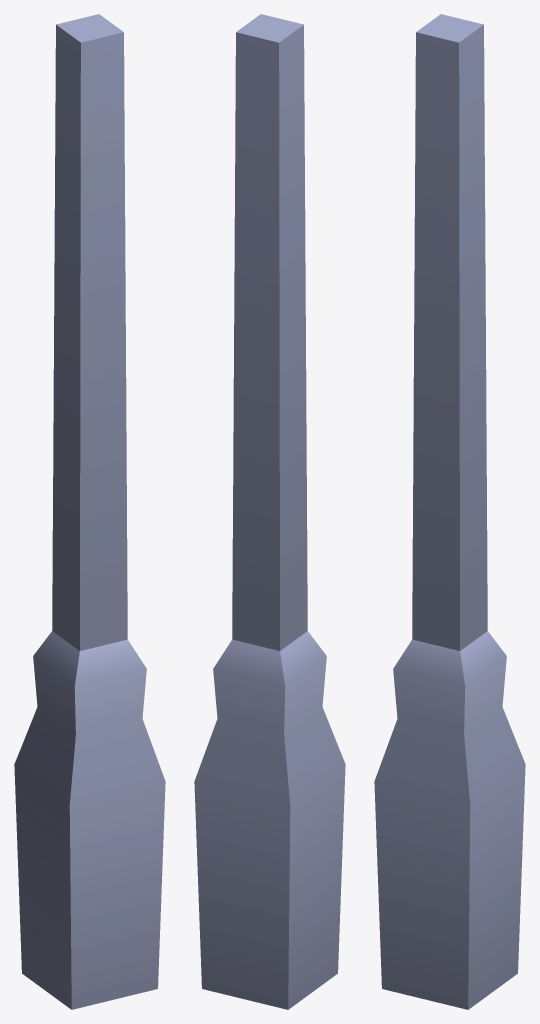
Rendered from road-sign-empty.glb.
3 views of the same model, side by side, from view 1: azimuth 30°, elevation 25°; view 2: azimuth 150°, elevation 25°; view 3: azimuth 330°, elevation 25° (orthographic).
Visible parts, largest first — view 1: road-sign-empty; view 2: road-sign-empty; view 3: road-sign-empty.
Part boxes in pixels (x1,y1,x2,y2): road-sign-empty: [14, 14, 165, 1009]; road-sign-empty: [194, 14, 345, 1009]; road-sign-empty: [374, 14, 525, 1009].
Size of the model in its own units: 0.05 by 0.475 by 0.05.
1 material, 1 textured.
